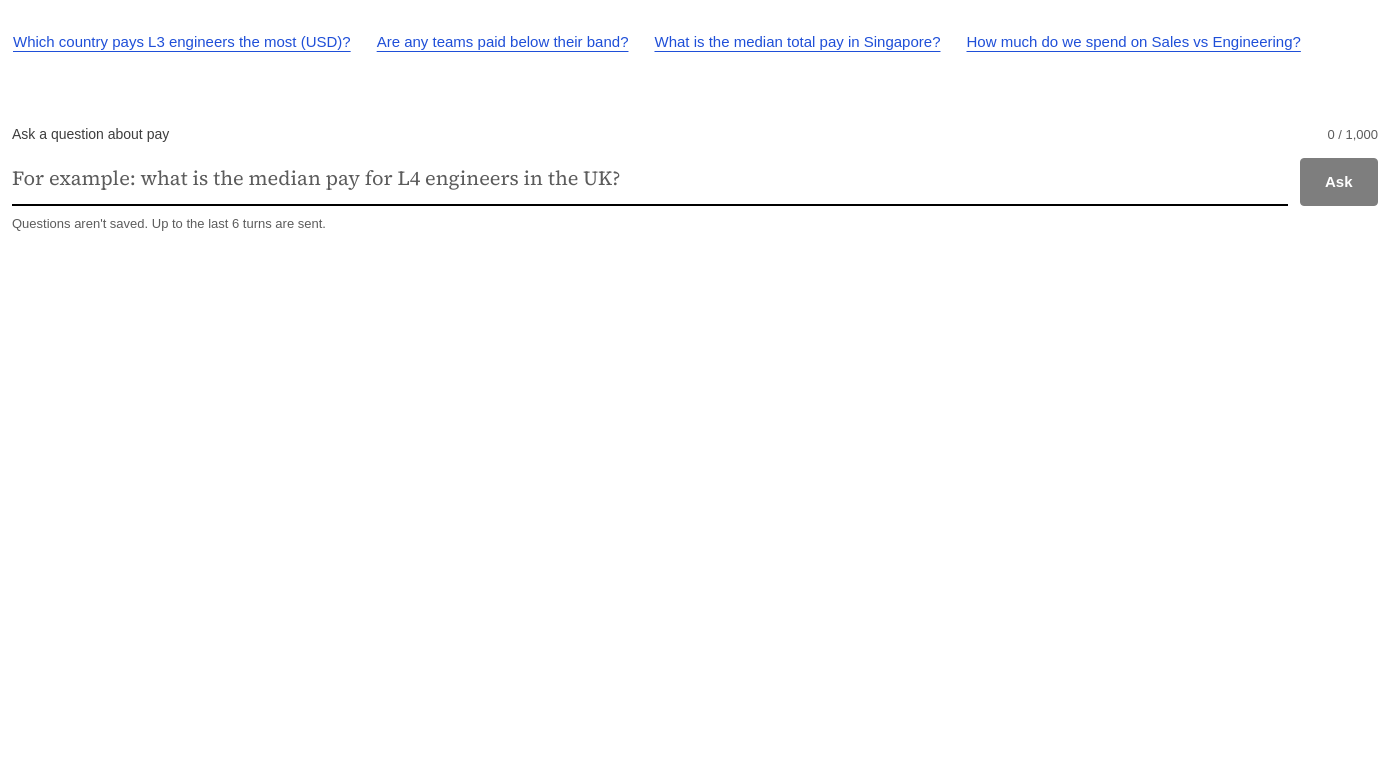
Test case: AskChat › shows no dashboard link when the answer has none
The width and height of the screenshot is (1390, 768).
Clear the text box labelled "Ask a question about pay" at (650, 179), box [12,152,1288,206]
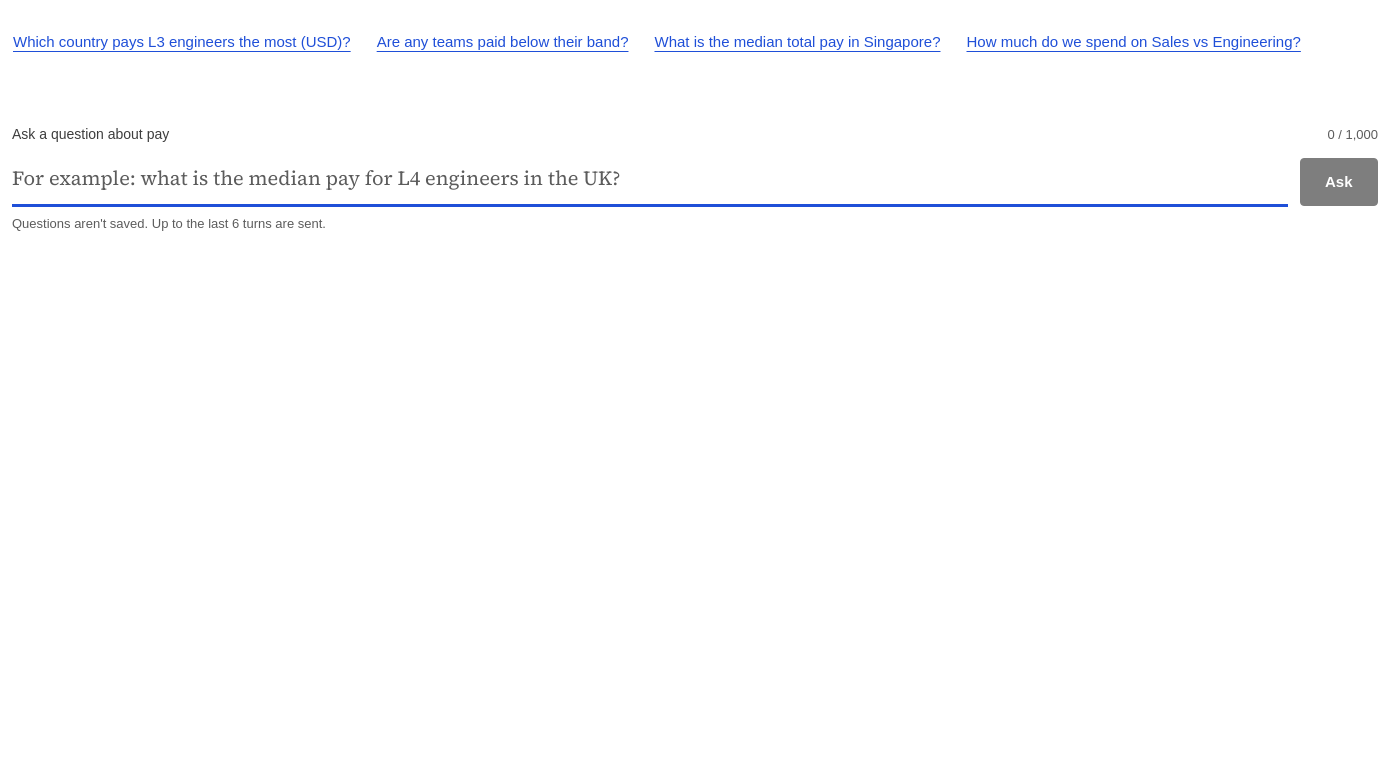
Type "Are we underpaying anyone in Germany?" into the text box labelled "Ask a question about pay" at (650, 180), box [12,152,1288,207]
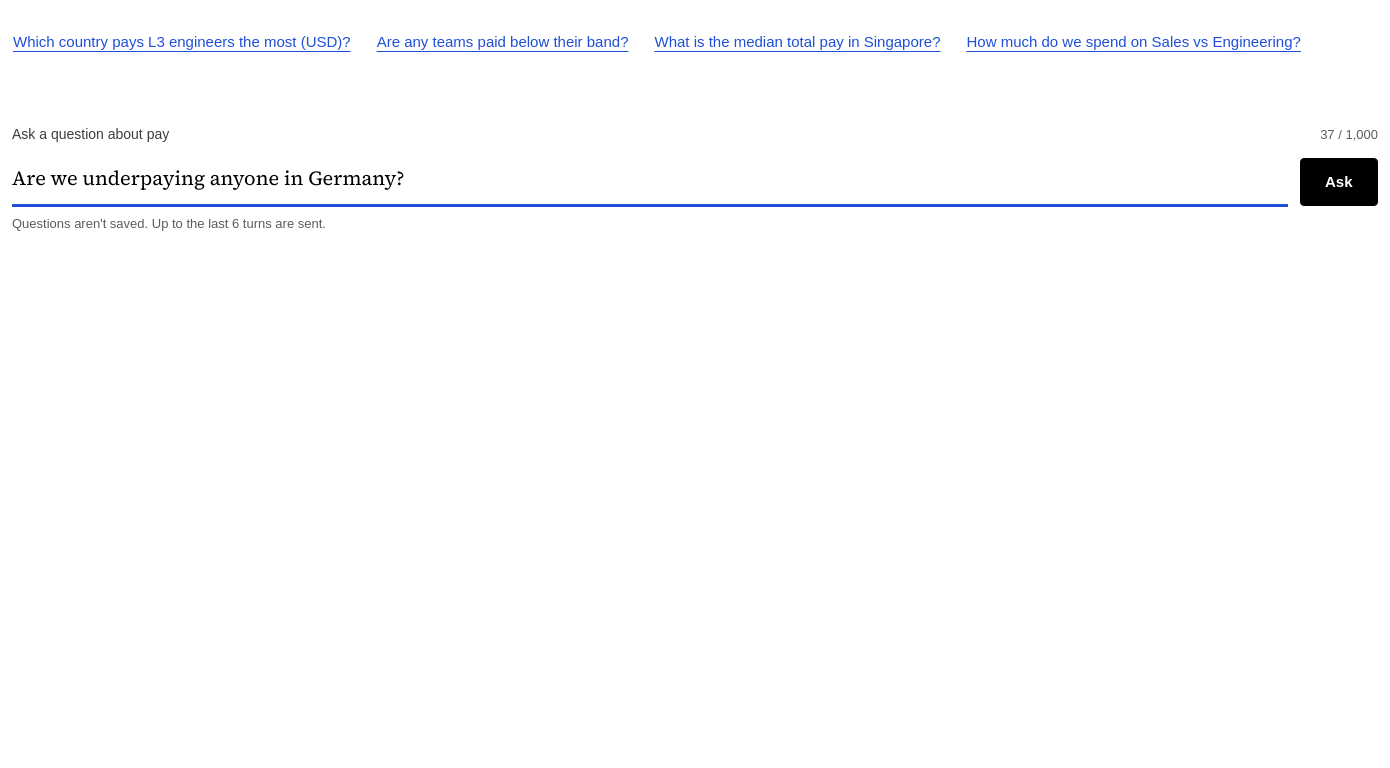
Click the button "Ask" at (1339, 182), box [1300,158,1378,206]
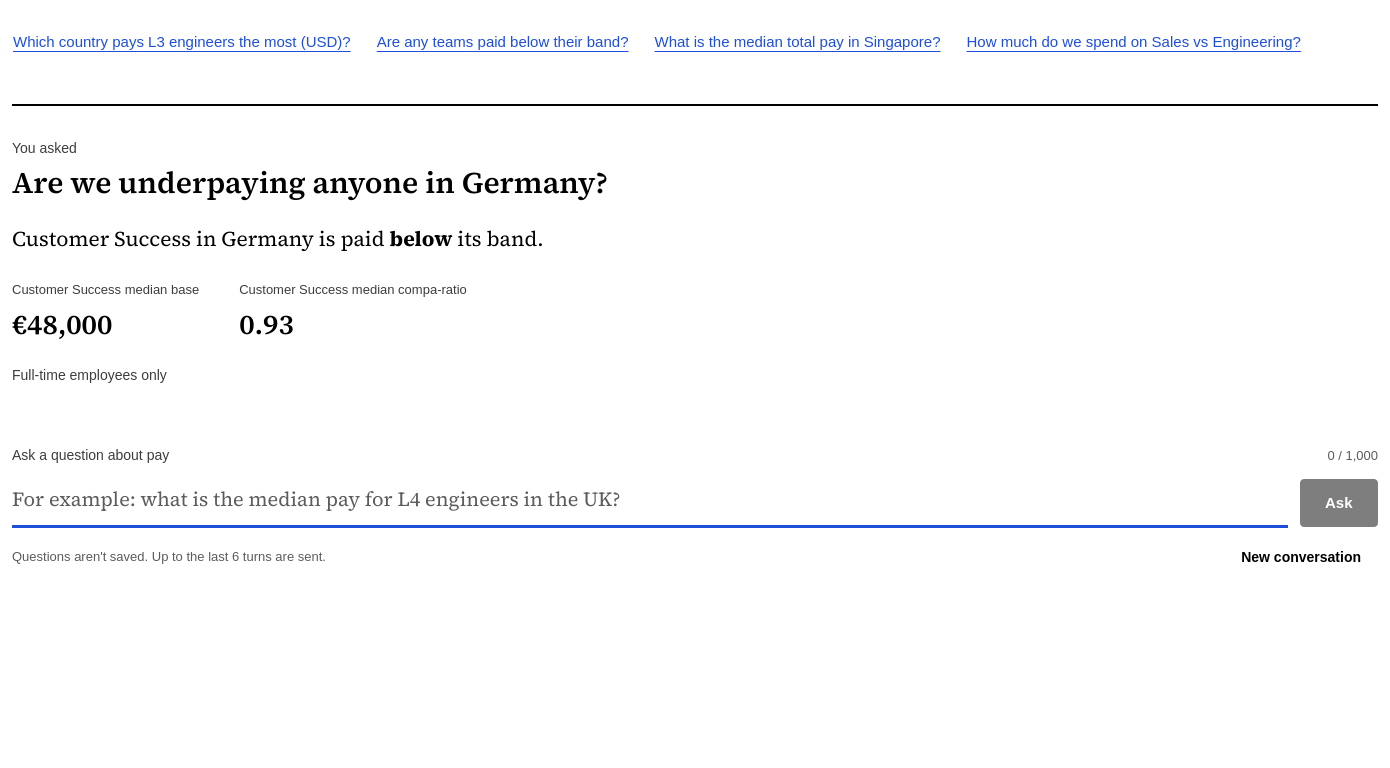
Check: the element named "Question and answer" is shown, box [12,104,1378,385]
